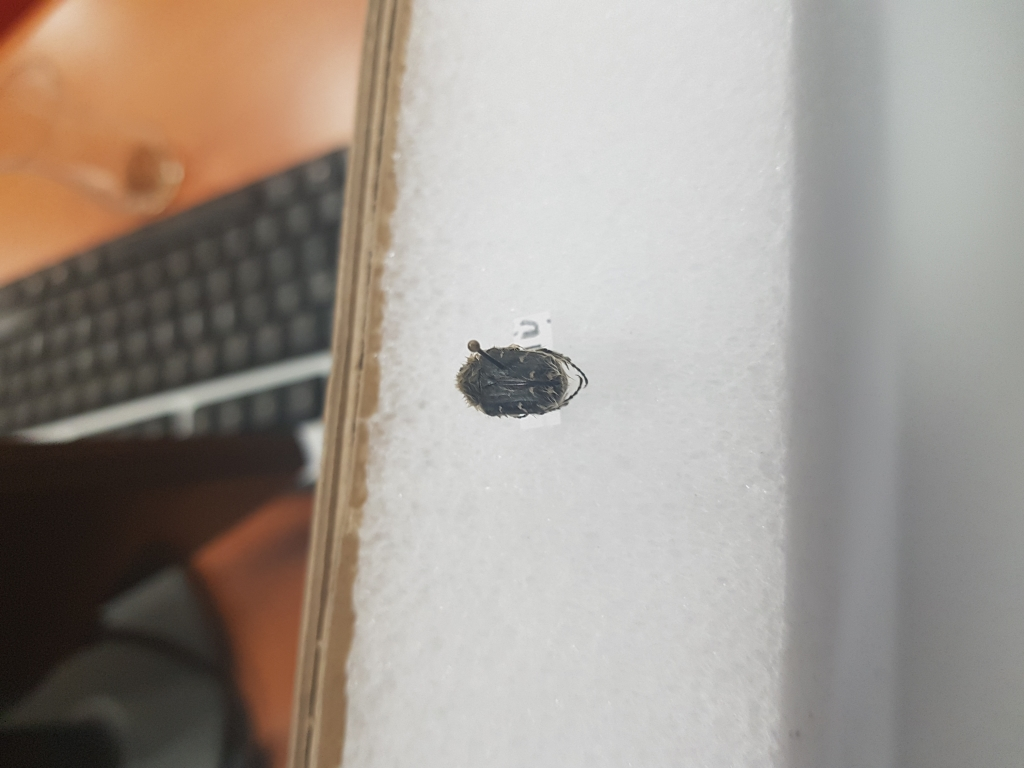Tropinota_senicula: (453, 337, 599, 427)
